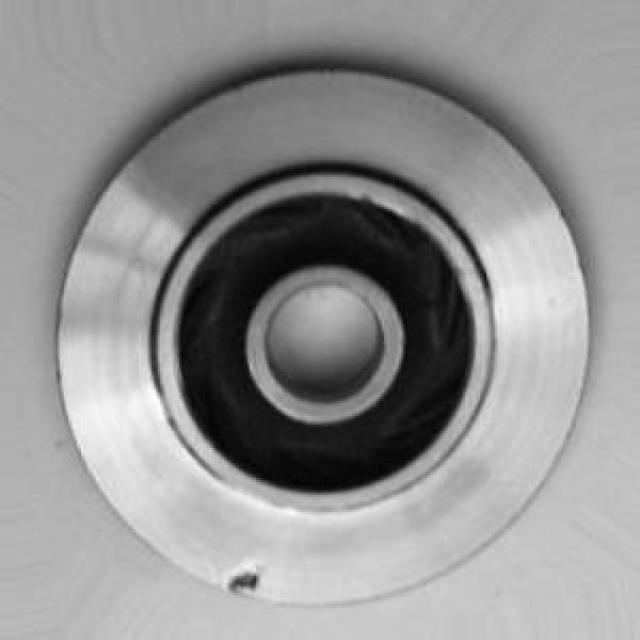Defect: (224, 565, 266, 604)
